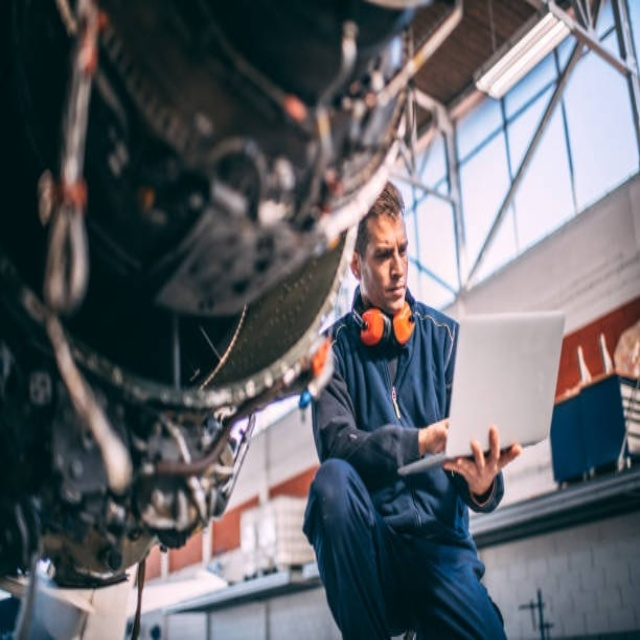Sin_gafas: (363, 232, 410, 270)
Sin_guantes: (444, 424, 518, 495)
Sin_mascara: (379, 279, 408, 307)
